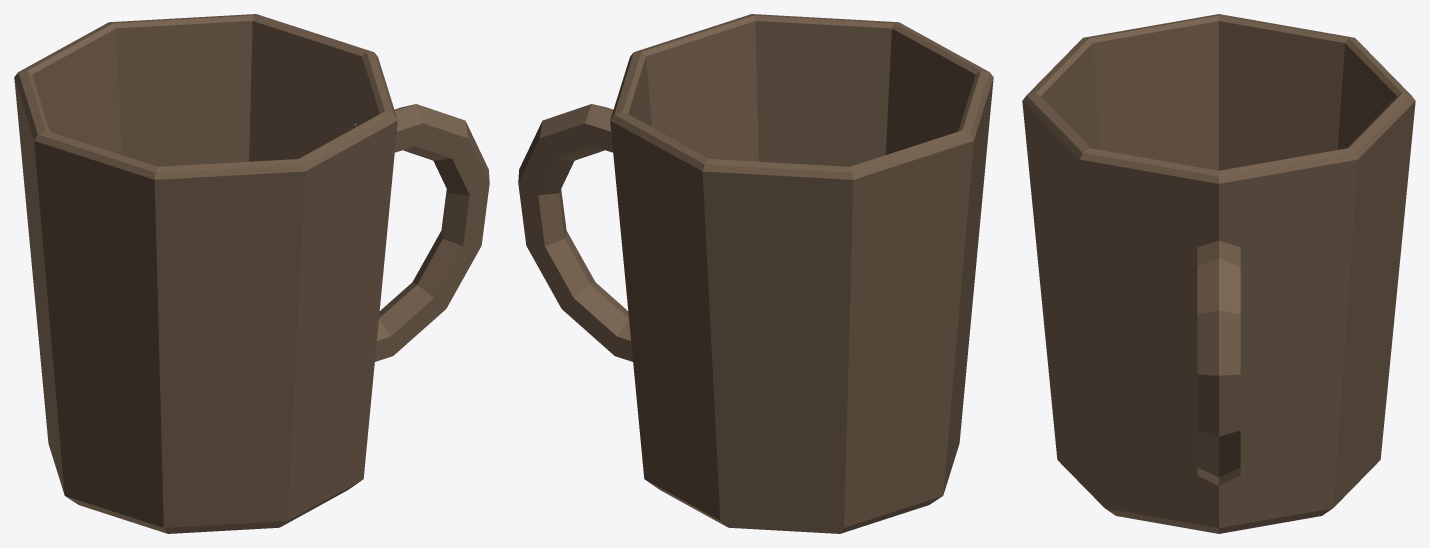
The model's file is CoffeeMug.fbx.
3 renders of one model, left to right at view 1: azimuth 30°, elevation 25°; view 2: azimuth 150°, elevation 25°; view 3: azimuth 270°, elevation 25°, orthographic.
Visible parts, largest first — view 1: Cylinder, Torus; view 2: Cylinder, Torus; view 3: Cylinder, Torus.
Part boxes in pixels (left/top/right/bottom): Cylinder: left=14, top=14, right=397, bottom=533; Torus: left=354, top=104, right=489, bottom=361; Cylinder: left=610, top=14, right=993, bottom=533; Torus: left=518, top=104, right=653, bottom=361; Cylinder: left=1022, top=14, right=1415, bottom=533; Torus: left=1197, top=241, right=1240, bottom=485.
Size of the model in its own units: 79.11 by 63.63 by 59.83.
